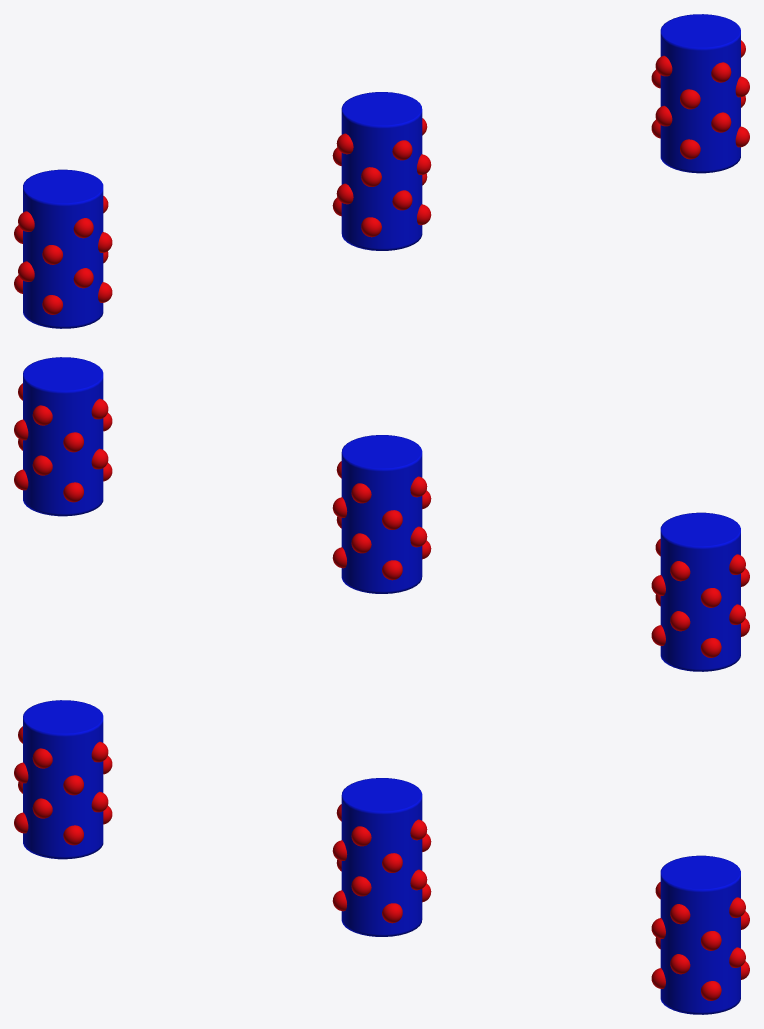
3 renders of one model, top to bottom at view 1: azimuth 30°, elevation 25°; view 2: azimuth 150°, elevation 25°; view 3: azimuth 330°, elevation 25°, orthographic.
Parts seen in each view (by area): view 1: Cylinder.002, Cylinder.012, Cylinder.005; view 2: Cylinder.002, Cylinder.012, Cylinder.005; view 3: Cylinder.002, Cylinder.005, Cylinder.012.
Part boxes in pixels (<box>): Cylinder.002: <box>332,92,431,250</box>; Cylinder.012: <box>651,14,749,173</box>; Cylinder.005: <box>14,169,112,328</box>; Cylinder.002: <box>332,435,431,593</box>; Cylinder.012: <box>14,357,112,516</box>; Cylinder.005: <box>651,512,749,671</box>; Cylinder.002: <box>332,778,431,936</box>; Cylinder.005: <box>14,700,112,859</box>; Cylinder.012: <box>651,855,749,1014</box>.
Size of the model in its own units: 11.38 by 1.88 by 1.38.
